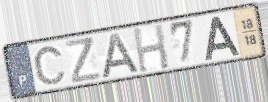7: (168, 18, 196, 66)
A: (100, 31, 142, 80), (204, 15, 242, 62)
C: (32, 45, 68, 86)
H: (131, 22, 172, 75)
Z: (63, 35, 104, 85)
